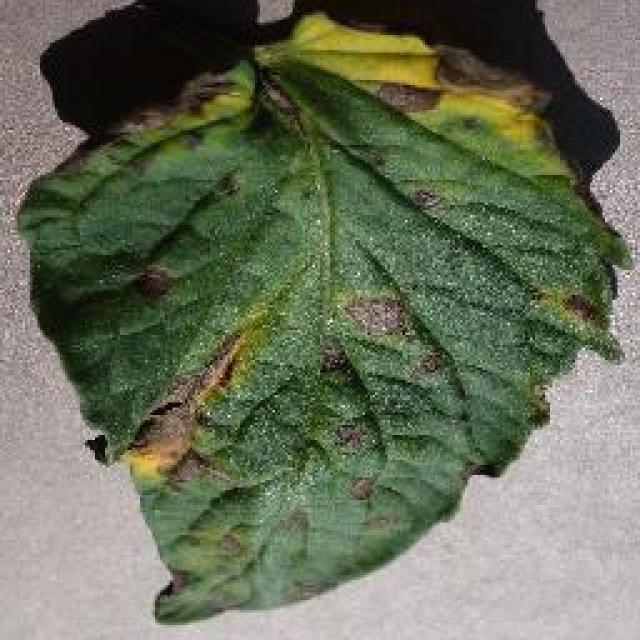Tomato___Early_blight: (12, 7, 630, 633)
